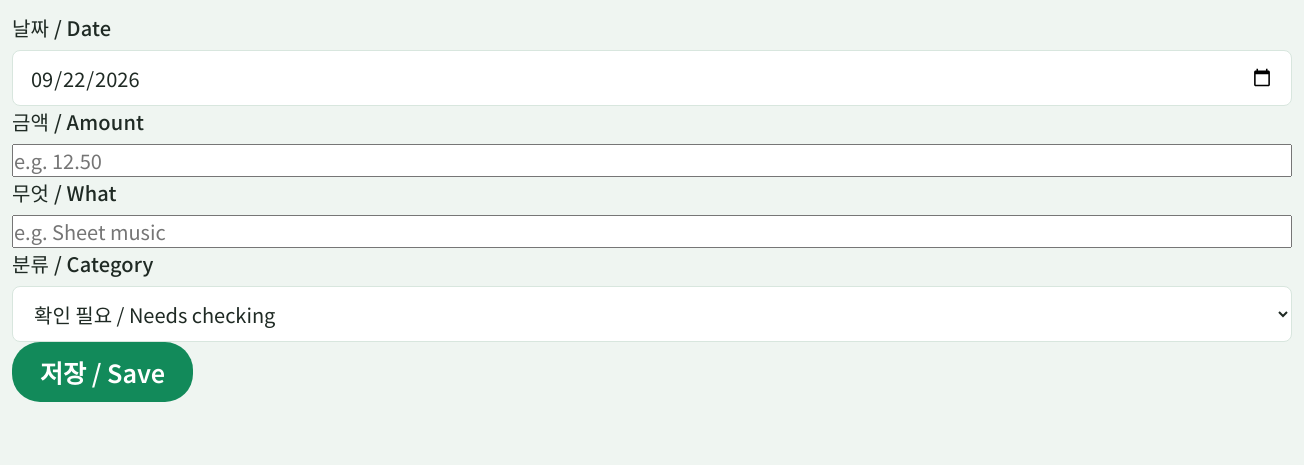
Scenario: BoughtSomethingForm › shows the mileage-instead note for a fuel purchase (C1)
This screenshot has width=1304, height=465.
Type "Shell petrol" into the field labelled "무엇 / What" at (652, 232), box [12,215,1292,248]
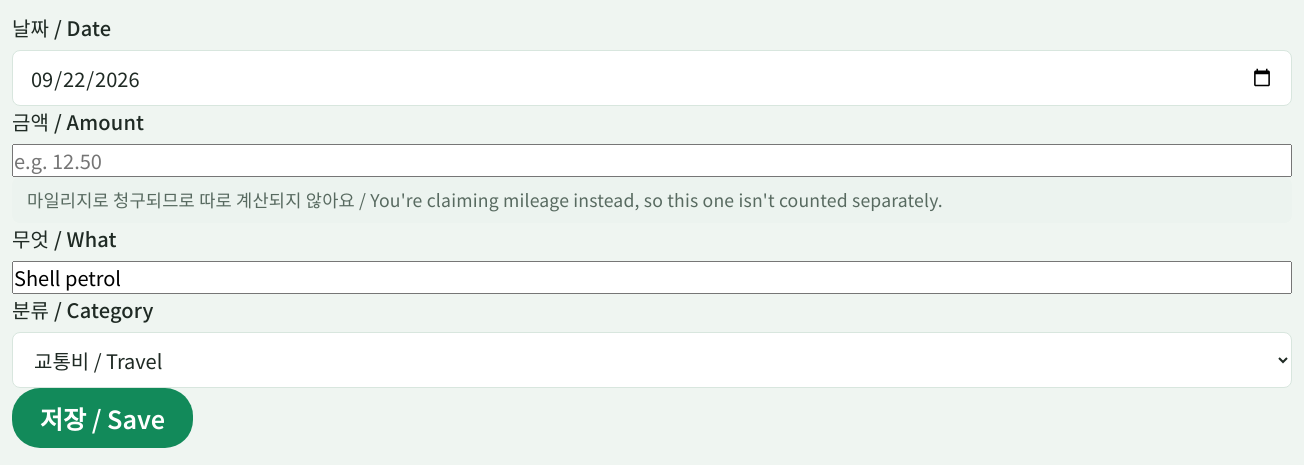
Check: the text "claiming mileage instead" is shown, box [27,187,943,212]
